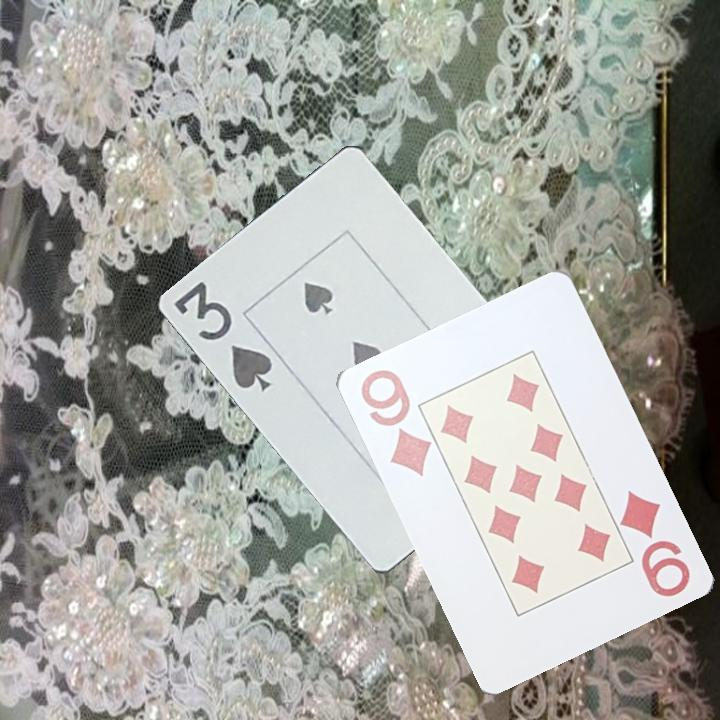3s: (171, 277, 277, 396)
9d: (356, 365, 433, 479), (616, 486, 693, 600)
